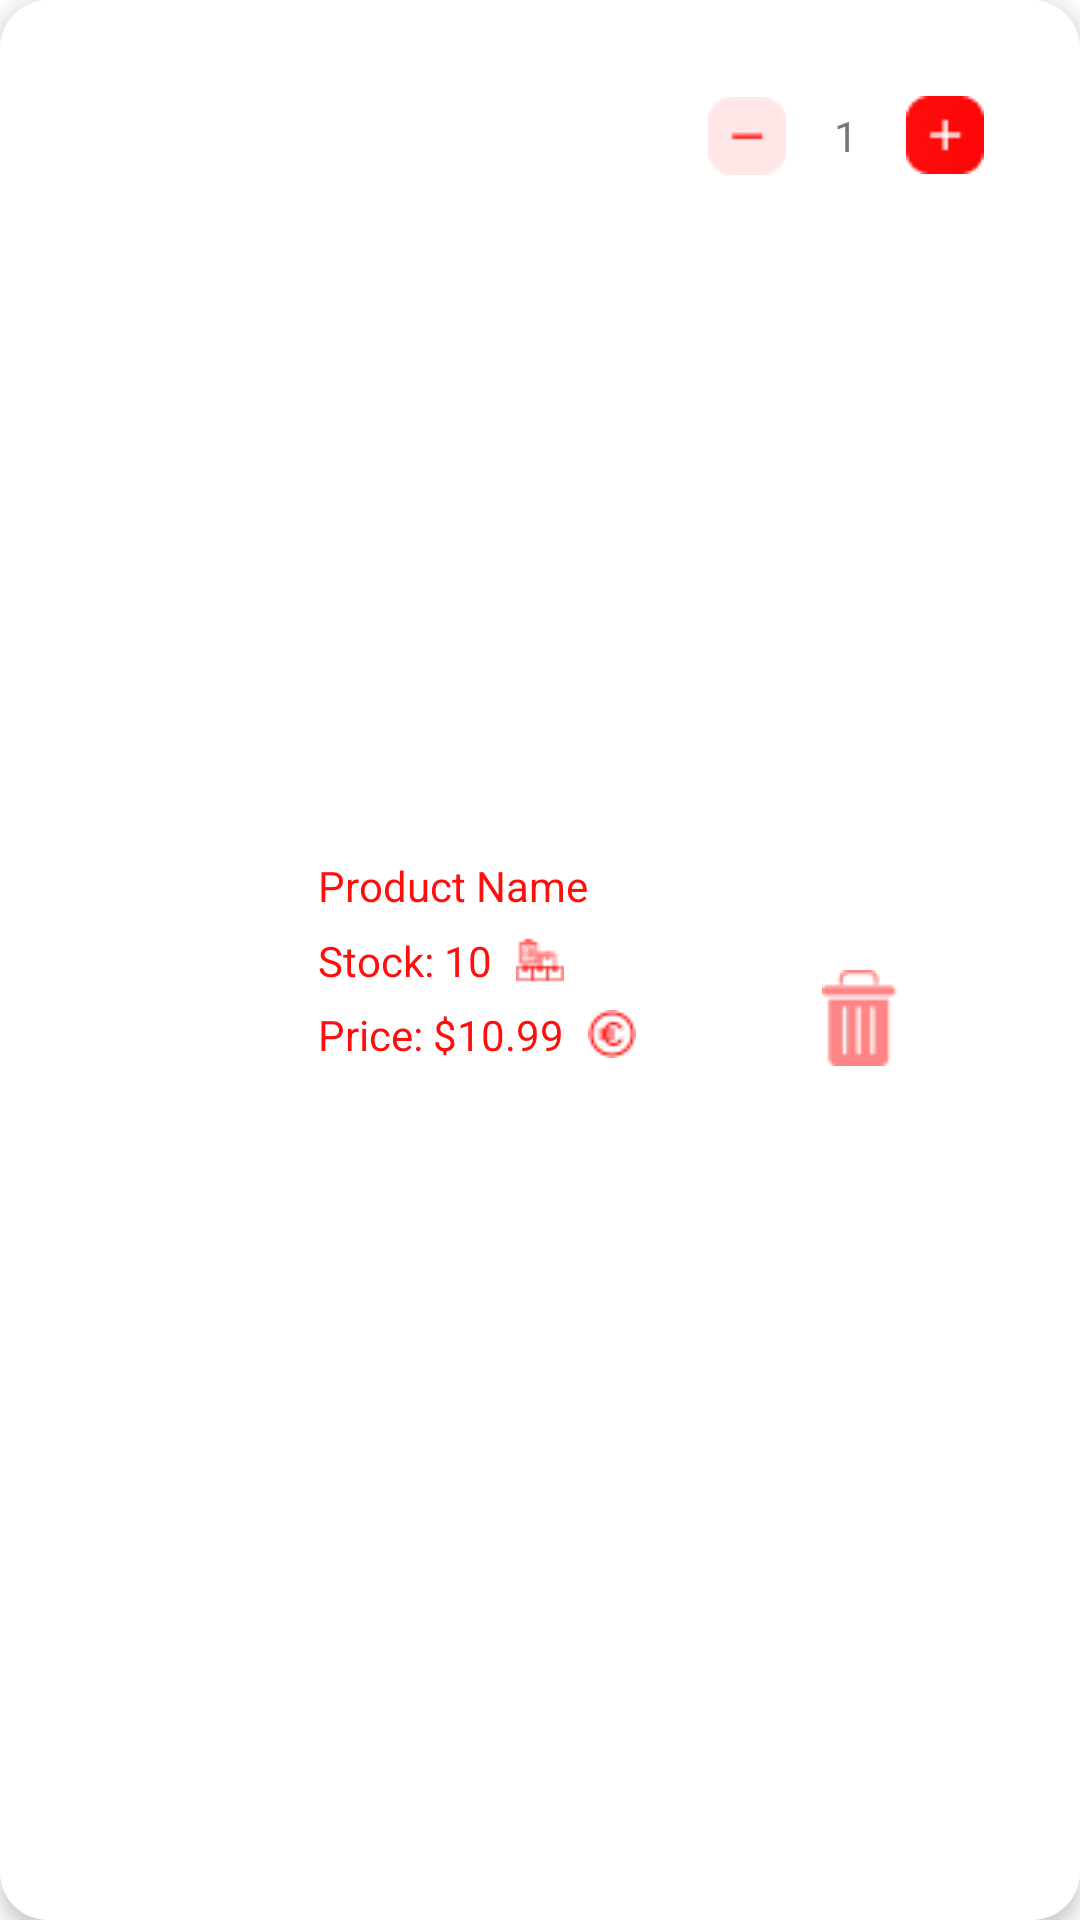

Where to tap for icons on this 1080 x 1920 app screen, as (x=x, y=y):
iconminus: (x=747, y=136)
iconplus: (x=945, y=135)
supprimer: (x=859, y=1018)
